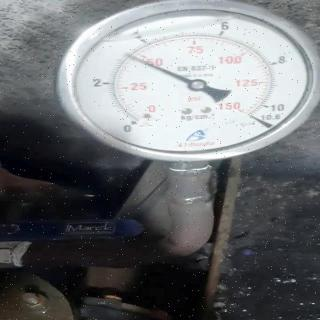gauge: (50, 0, 318, 164), (240, 105, 266, 127), (123, 111, 147, 133), (188, 78, 208, 92), (121, 50, 135, 60)
